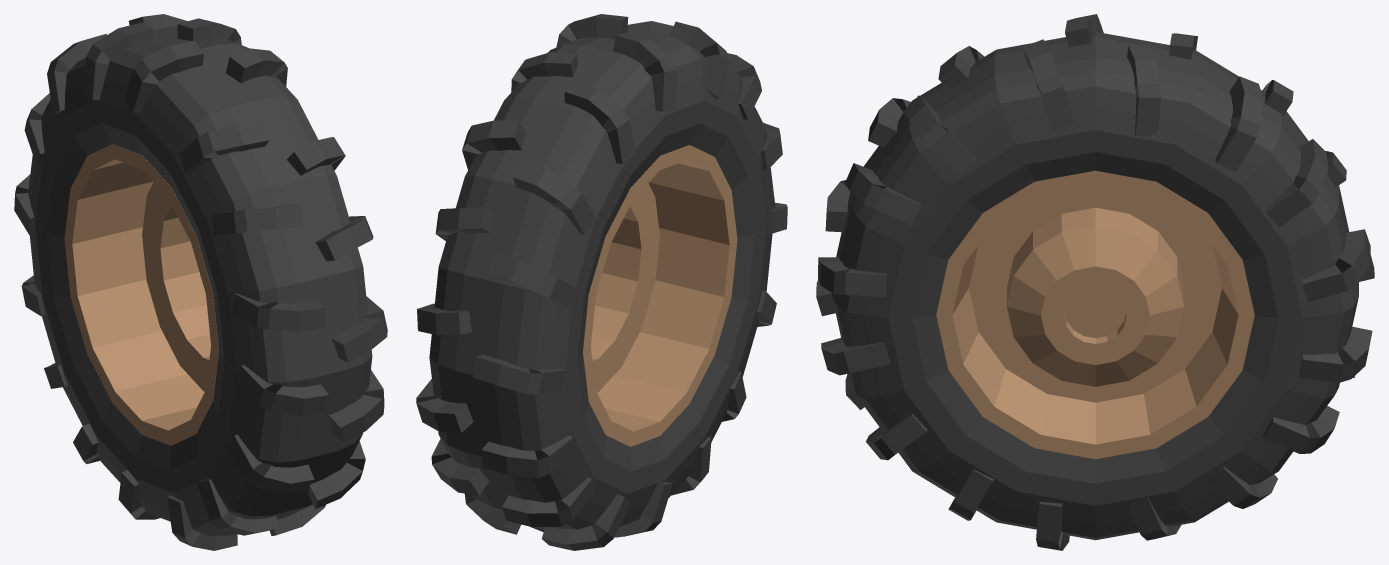
Rendered from tractor_rear_wheel.fbx.
The picture shows the model from 3 angles, left to right: view 1: azimuth 30°, elevation 25°; view 2: azimuth 150°, elevation 25°; view 3: azimuth 270°, elevation 25°; orthographic projection. The views are drawn at different scales.
Visible parts, largest first — view 1: Pneu arrière gauche, Jante arrière gauche; view 2: Pneu arrière gauche, Jante arrière gauche; view 3: Pneu arrière gauche, Jante arrière gauche.
Boxes of the visible parts, bbox=[...] form: Pneu arrière gauche: bbox=[14, 14, 387, 550]; Jante arrière gauche: bbox=[64, 144, 218, 445]; Pneu arrière gauche: bbox=[416, 14, 787, 550]; Jante arrière gauche: bbox=[582, 145, 737, 446]; Pneu arrière gauche: bbox=[816, 14, 1374, 550]; Jante arrière gauche: bbox=[936, 170, 1254, 459].
Size of the model in its own units: 22.9 by 76.41 by 77.
1 material, 1 textured.
